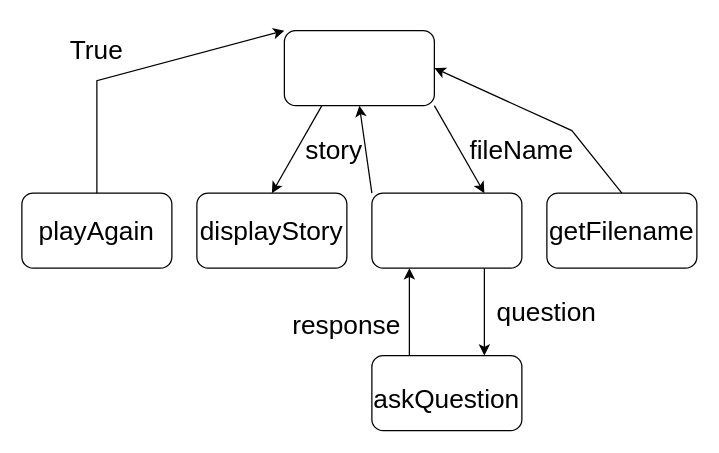
This 719x453 diagram has some shape labels left out. Each missing label, with the centre of its shape:
"main" goes at pixel 358 67.
"readFile" goes at pixel 446 230.
